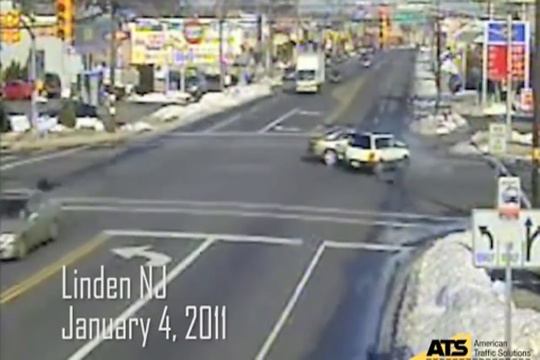car: (1, 181, 74, 263), (353, 133, 417, 171), (301, 114, 348, 165), (290, 48, 324, 98)
